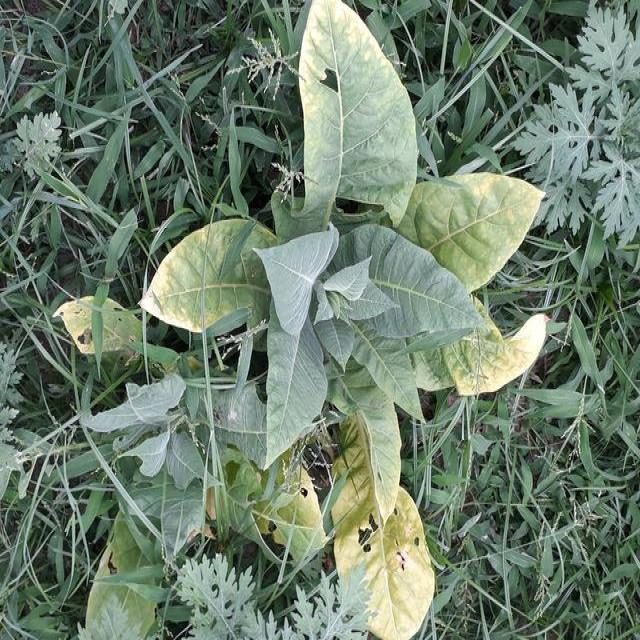crop: (154, 1, 540, 640), (71, 304, 312, 638)
